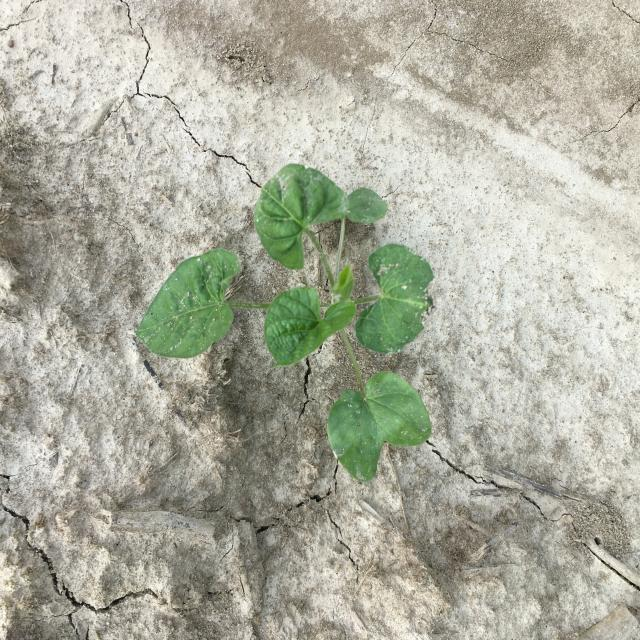MorningGlory: (136, 163, 434, 482)
